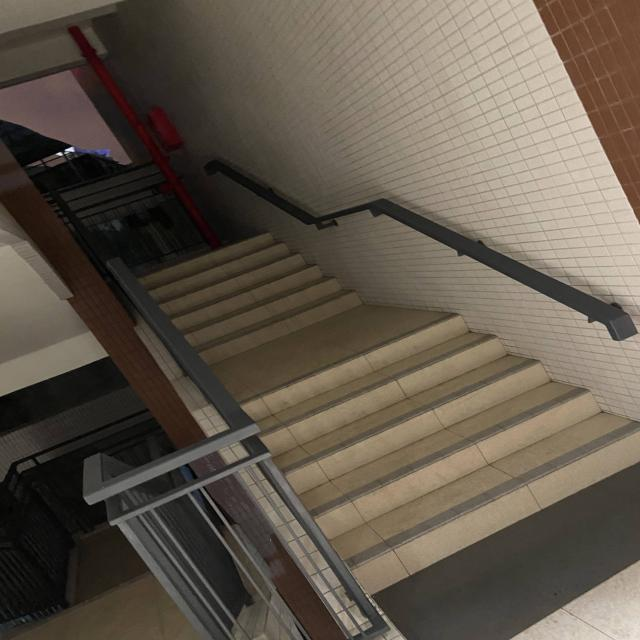Stairs: (221, 291, 640, 604), (112, 220, 384, 381)
